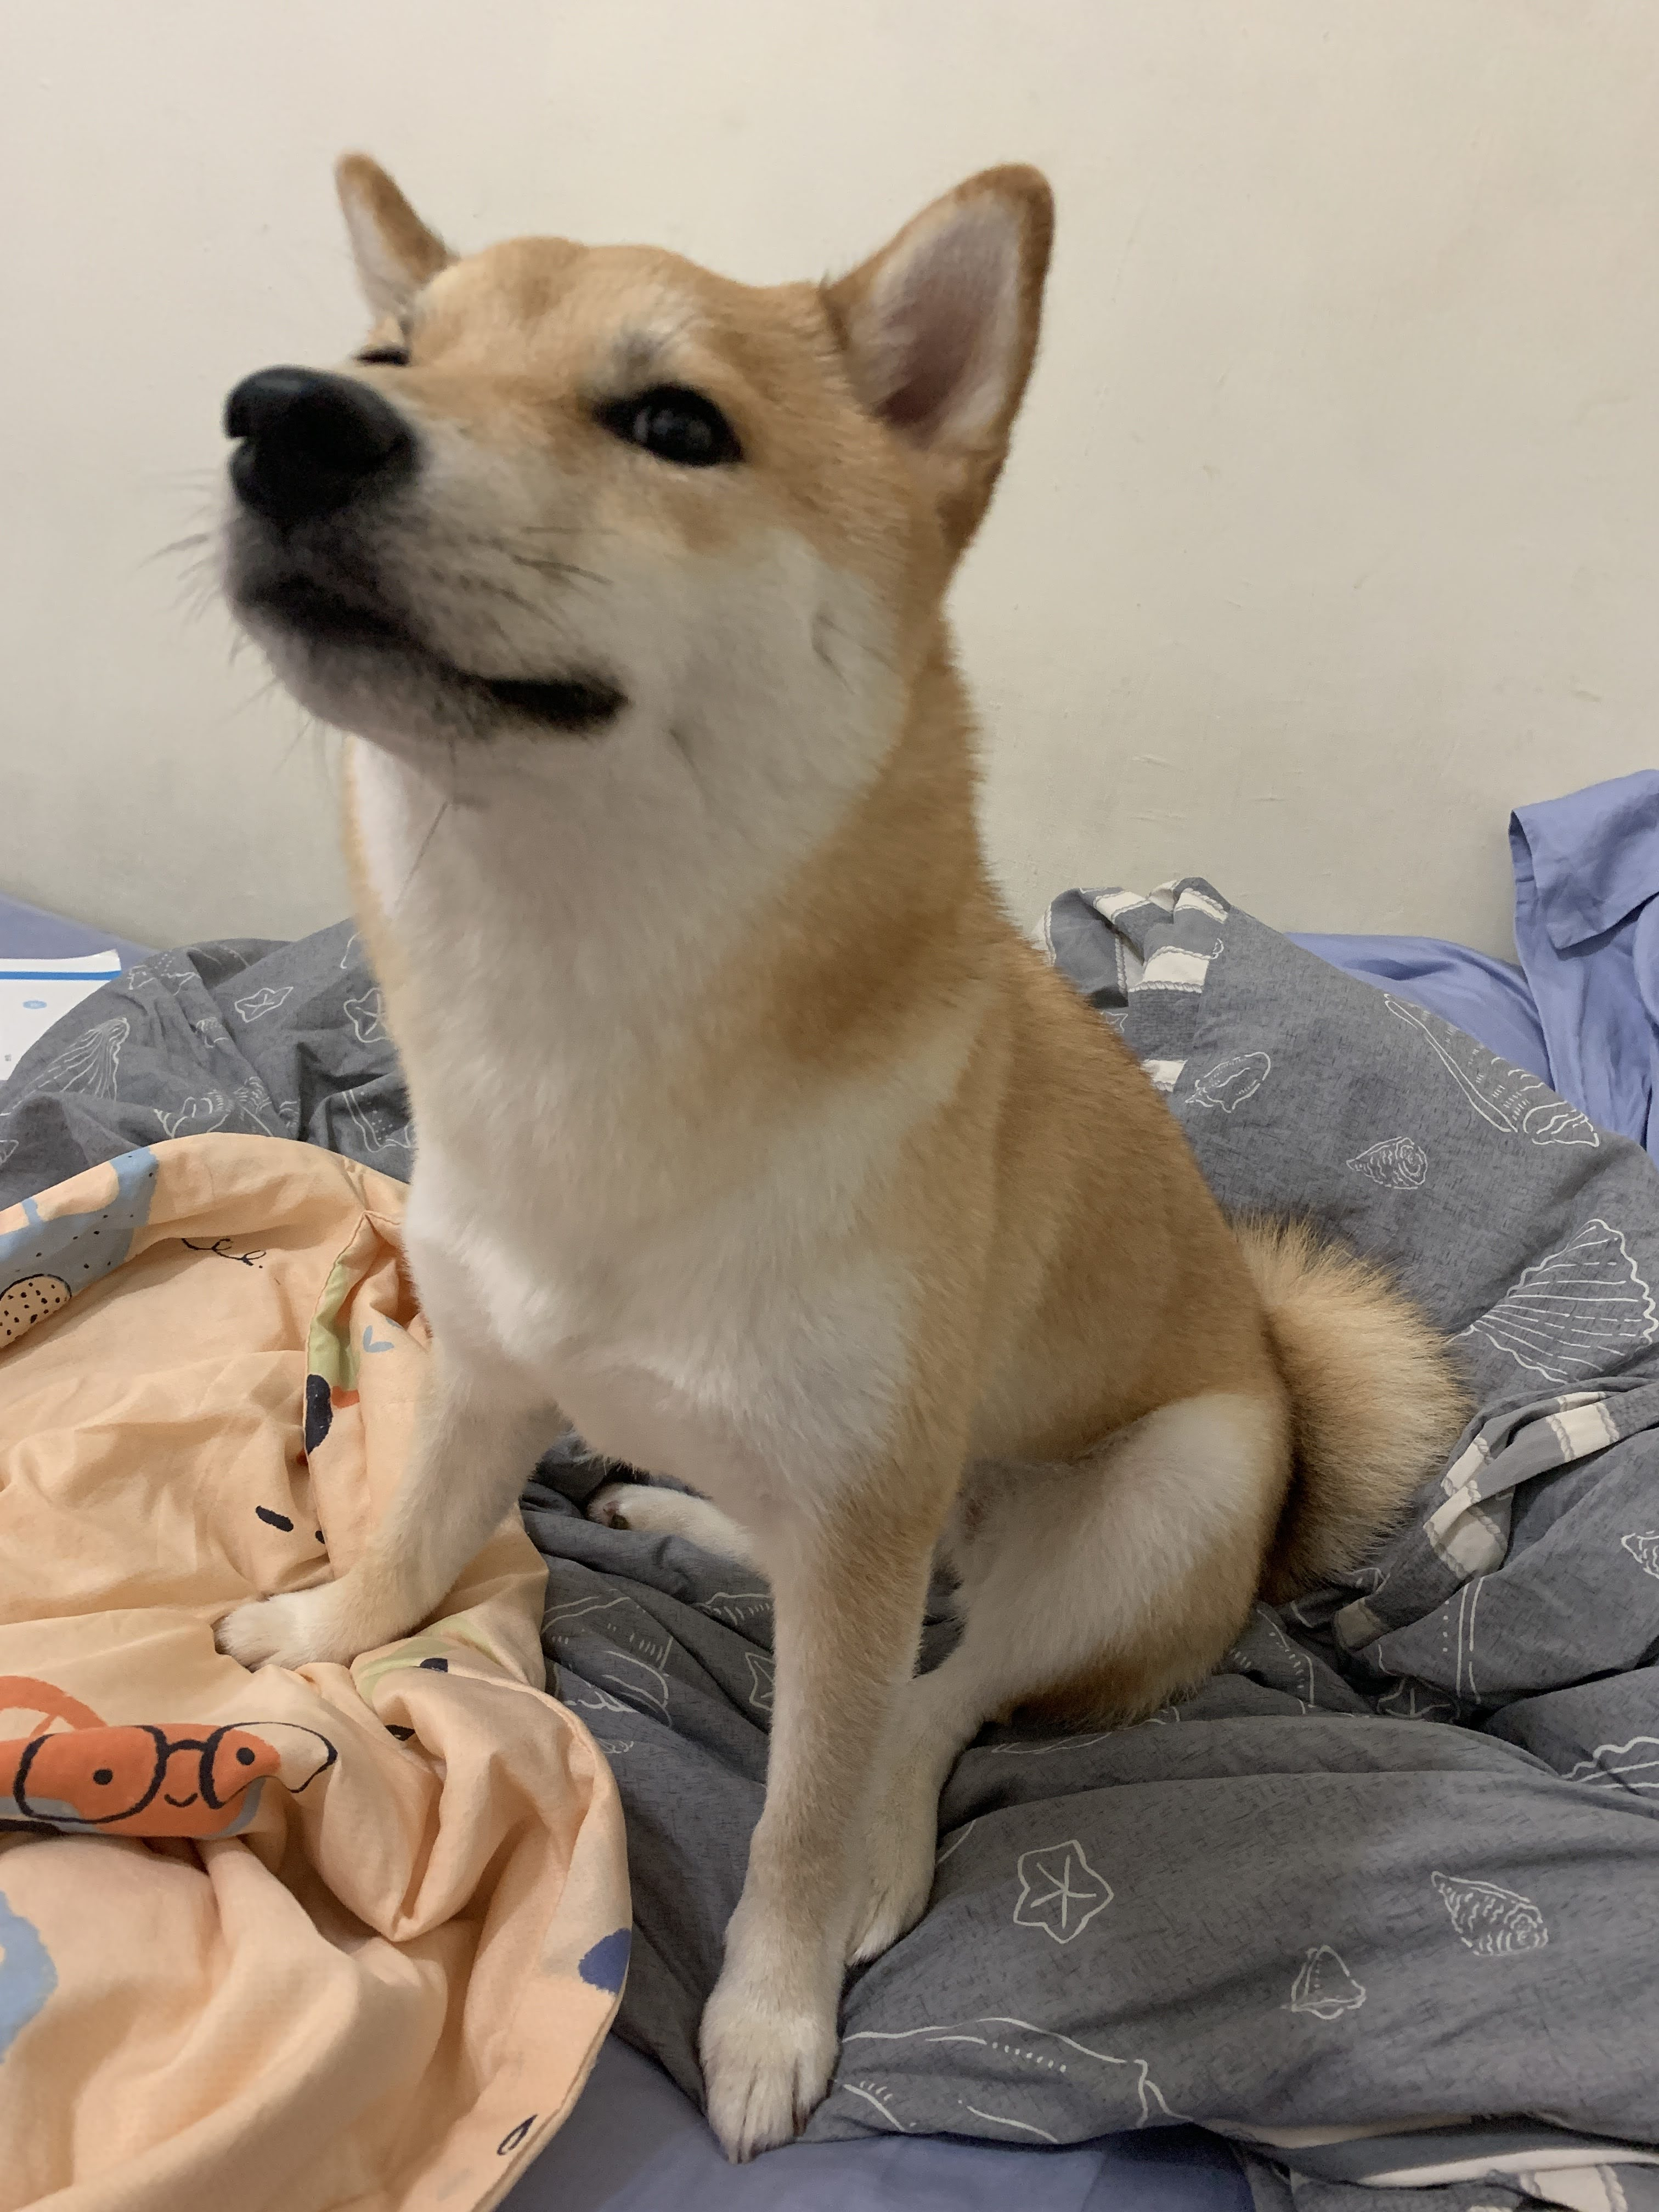Sit down: (136, 106, 1460, 2135)
